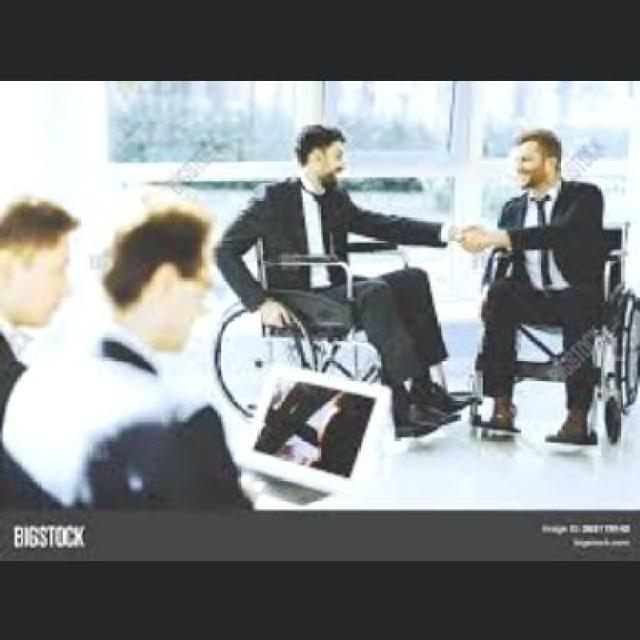wheelchairs: (216, 208, 464, 437), (467, 220, 637, 437)
